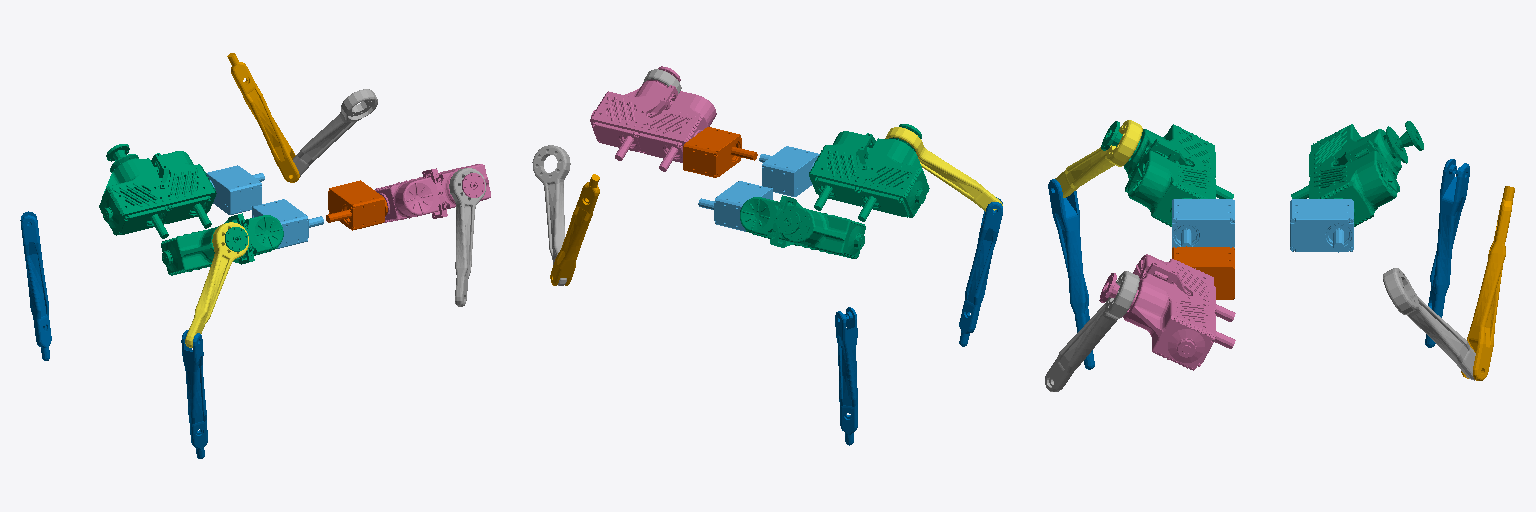
--- Facts derived from the render (not from the file) ---
3 views of the same robot in one strip: view 1: azimuth 30°, elevation 25°; view 2: azimuth 150°, elevation 25°; view 3: azimuth 270°, elevation 25° (orthographic).
Model Quadruped-IsaacSim with 17 links and 16 joints (12 revolute, 4 fixed), rooted at Basic_Body, posed every joint at zero.
Links seen in each view (by area): view 1: FR-Double-Motor1, FL-Double-Motor1, RL-Double-Motor1, FR-leg-link21, RR-leg-link21, RL-Single-Motor1, RL-leg-link11, RR-leg-link11, FL-leg-link11, FL-leg-link21, FR-Single-Motor1, FL-Single-Motor1; view 2: FL-Double-Motor1, RL-Double-Motor1, FR-Double-Motor1, FL-leg-link21, RL-Single-Motor1, FR-leg-link21, RR-leg-link11, FL-Single-Motor1, RR-leg-link21, FL-leg-link11, FR-Single-Motor1; view 3: RL-Double-Motor1, FR-Double-Motor1, FL-Double-Motor1, FR-Single-Motor1, RR-leg-link21, FR-leg-link21, RL-leg-link11, FL-Single-Motor1, FL-leg-link21, RR-leg-link11, FL-leg-link11, RL-Single-Motor1.
Link boxes in pixels (bbox=[...]): FR-Double-Motor1: bbox=[99, 144, 216, 238]; FL-Double-Motor1: bbox=[161, 213, 283, 275]; RL-Double-Motor1: bbox=[375, 164, 490, 222]; FR-leg-link21: bbox=[20, 211, 51, 360]; RR-leg-link21: bbox=[227, 53, 299, 182]; RL-Single-Motor1: bbox=[326, 180, 387, 230]; RL-leg-link11: bbox=[449, 168, 485, 306]; RR-leg-link11: bbox=[293, 89, 377, 176]; FL-leg-link11: bbox=[185, 222, 248, 347]; FL-leg-link21: bbox=[181, 330, 207, 458]; FR-Single-Motor1: bbox=[206, 165, 264, 214]; FL-Single-Motor1: bbox=[252, 199, 323, 248]; FL-Double-Motor1: bbox=[809, 124, 929, 221]; RL-Double-Motor1: bbox=[590, 66, 716, 171]; FR-Double-Motor1: bbox=[740, 195, 865, 258]; FL-leg-link21: bbox=[959, 197, 1002, 346]; RL-Single-Motor1: bbox=[683, 127, 757, 177]; FR-leg-link21: bbox=[835, 307, 857, 445]; RR-leg-link11: bbox=[532, 145, 570, 285]; FL-Single-Motor1: bbox=[759, 146, 819, 196]; RR-leg-link21: bbox=[550, 174, 599, 285]; FL-leg-link11: bbox=[885, 127, 1002, 211]; FR-Single-Motor1: bbox=[698, 181, 772, 231]; RL-Double-Motor1: bbox=[1099, 254, 1235, 370]; FR-Double-Motor1: bbox=[1291, 121, 1423, 226]; FL-Double-Motor1: bbox=[1101, 121, 1233, 226]; FR-Single-Motor1: bbox=[1290, 199, 1353, 252]; RR-leg-link21: bbox=[1461, 186, 1514, 380]; FR-leg-link21: bbox=[1425, 159, 1469, 347]; RL-leg-link11: bbox=[1045, 271, 1139, 391]; FL-Single-Motor1: bbox=[1172, 199, 1234, 247]; FL-leg-link21: bbox=[1048, 179, 1094, 369]; RR-leg-link11: bbox=[1383, 268, 1475, 380]; FL-leg-link11: bbox=[1055, 120, 1142, 197]; RL-Single-Motor1: bbox=[1172, 246, 1234, 299].
Size in the robot's own frame: 0.4897 by 0.4326 by 0.3104 metres.
12 mesh visuals loaded from 17 distinct referenced files (12 binary STL); not drawn: 5 (reference not matched to a file when rendering).

The robot description file, URDF, robot "Quadruped-IsaacSim":
<?xml version='1.0' encoding='utf-8'?>
<robot name="Quadruped-IsaacSim">
    <link name="Basic_Body">
        <inertial>
            <origin xyz="3.2699753365527856e-11 -0.0012499987421279188 -0.004750000038203694" rpy="0.0 0.0 0.0" />
            <mass value="0.5223502772293394" />
            <inertia ixx="0.000774574690005525" iyy="0.011438778897726667" izz="0.01205863802906395" ixy="-1.1564890962261062e-10" iyz="3.863476379095676e-13" ixz="2.9993621752067147e-12" />
        </inertial>
        <visual name="Body1_visual">
            <origin xyz="0.0 0.0 0.0" rpy="0.0 0.0 0.0" />
            <geometry>
                <mesh filename="meshes/Body1.stl" />
            </geometry>
        </visual>
        <collision name="Body1_collision">
            <origin xyz="0.0 0.0 0.0" rpy="0.0 0.0 0.0" />
            <geometry>
                <mesh filename="meshes/Body1.stl" />
            </geometry>
        </collision>
    </link>
    <link name="FL-Single-Motor1">
        <inertial>
            <origin xyz="-0.008058511743548396 0.024291032753734853 0.016750000002170324" rpy="0.0 -0.0 0.0" />
            <mass value="0.18505114928963637" />
            <inertia ixx="6.927157374956791e-05" iyy="5.2779060673292105e-05" izz="8.852045695425213e-05" ixy="1.5973926095205152e-07" iyz="4.3619621803436814e-15" ixz="1.0601762523432257e-14" />
        </inertial>
        <visual name="FL-Single-Motor1_visual">
            <origin xyz="-0.041749999999999954 0.039250000000000014 0.016749999999999973" rpy="-1.5707963267948968 -1.5707963267948966 0" />
            <geometry>
                <mesh filename="meshes/FL-Single-Motor1.stl" />
            </geometry>
        </visual>
        <collision name="FL-Single-Motor1_collision">
            <origin xyz="-0.041749999999999954 0.039250000000000014 0.016749999999999973" rpy="-1.5707963267948968 -1.5707963267948966 0" />
            <geometry>
                <mesh filename="meshes/FL-Single-Motor1.stl" />
            </geometry>
        </collision>
    </link>
    <link name="FL-Double-Motor1">
        <inertial>
            <origin xyz="-0.06716414766997797 0.00542494091347443 0.009451637209221975" rpy="0.0 -0.0 0.0" />
            <mass value="0.4782524941626558" />
            <inertia ixx="0.0003096692588512723" iyy="0.0008123248398218923" izz="0.0007226948848486764" ixy="-1.8409934400207006e-07" iyz="-7.691806622294427e-05" ixz="-7.498838760300702e-07" />
        </inertial>
        <visual name="FL-Double-Motor1_visual">
            <origin xyz="-0.08224999999999996 7.105427357601002e-17 1.7763568394002505e-17" rpy="7.351718556377353e-17 -0.5235987755982987 -1.5707963267948966" />
            <geometry>
                <mesh filename="meshes/FL-Double-Motor1.stl" />
            </geometry>
        </visual>
        <!-- <collision name="FL-Double-Motor1_collision">
            <origin xyz="-0.08224999999999996 7.105427357601002e-17 1.7763568394002505e-17" rpy="7.351718556377353e-17 -0.5235987755982987 -1.5707963267948966" />
            <geometry>
                <mesh filename="meshes/FL-Double-Motor1.stl" />
            </geometry>
        </collision> -->
    </link>
    <link name="FL-leg-link11">
        <inertial>
            <origin xyz="-0.03429140259846331 -0.025620270865074807 -0.032139907337445095" rpy="0.0 -0.0 0.0" />
            <mass value="0.04770813454279477" />
            <inertia ixx="6.36302553655918e-05" iyy="8.89846515557298e-05" izz="6.558294511018001e-05" ixy="-2.8303963607115894e-05" iyz="-2.8671359242327797e-05" ixz="-4.1221187352143054e-05" />
        </inertial>
        <visual name="FL-leg-link11_visual">
            <origin xyz="3.552713678800501e-17 -0.00866024939550707 0.005" rpy="2.4113673972429335 -0.7233643550425849 0.5349780765624936" />
            <geometry>
                <mesh filename="meshes/FL-leg-link11.stl" />
            </geometry>
        </visual>
        <!-- <collision name="FL-leg-link11_collision">
            <origin xyz="3.552713678800501e-17 -0.00866024939550707 0.005" rpy="2.4113673972429335 -0.7233643550425849 0.5349780765624936" />
            <geometry>
                <mesh filename="meshes/FL-leg-link11.stl" />
            </geometry>
        </collision> -->
    </link>
    <!-- <link name="FL-leg-link31">
        <inertial>
            <origin xyz="-0.027784006284850626 0.05516827626297925 -0.033931111316207546" rpy="0.0 -0.0 0.0" />
            <mass value="0.030992351814191726" />
            <inertia ixx="4.1797781016090024e-05" iyy="2.5101887656093925e-05" izz="5.216342305184938e-05" ixy="2.2489027187463555e-05" iyz="1.3811198092937396e-05" ixz="-8.336460485588408e-06" />
        </inertial>
        <visual name="FL-leg-link31_visual">
            <origin xyz="0.0014091637734288832 0.0013351061748942783 0.00048140935420729395" rpy="2.5539983614180954 -1.1216409235946698 2.8696449517481084" />
            <geometry>
                <mesh filename="meshes/FL-leg-link31.stl" />
            </geometry>
        </visual>
        <collision name="FL-leg-link31_collision">
            <origin xyz="0.0014091637734288832 0.0013351061748942783 0.00048140935420729395" rpy="2.5539983614180954 -1.1216409235946698 2.8696449517481084" />
            <geometry>
                <mesh filename="meshes/FL-leg-link31.stl" />
            </geometry>
        </collision>
    </link>
    <link name="FL-leg-link41">
        <inertial>
            <origin xyz="0.004921954583490873 -0.026260730543362136 -0.05031446570950955" rpy="0.0 -0.0 2.993496475303259e-49" />
            <mass value="0.049054688661482895" />
            <inertia ixx="0.00010828569935672841" iyy="9.383889167156358e-05" izz="2.0884071472399707e-05" ixy="3.685945410098312e-06" iyz="-3.853858145171302e-05" ixz="8.370993681913823e-06" />
        </inertial>
        <visual name="FL-leg-link41_visual">
            <origin xyz="1.0658141036401502e-16 0.007967430604493071 -0.004600000000000009" rpy="-1.425522688459402 1.0410402069617724 -1.4028497870582188" />
            <geometry>
                <mesh filename="meshes/FL-leg-link41.stl" />
            </geometry>
        </visual>
        <collision name="FL-leg-link41_collision">
            <origin xyz="1.0658141036401502e-16 0.007967430604493071 -0.004600000000000009" rpy="-1.425522688459402 1.0410402069617724 -1.4028497870582188" />
            <geometry>
                <mesh filename="meshes/FL-leg-link41.stl" />
            </geometry>
        </collision>
    </link> -->
    <link name="FL-leg-link21">
        <inertial>
            <origin xyz="0.010346172100577498 0.06008226076579486 -0.04227209085096202" rpy="0.0 -0.0 0.0" />
            <mass value="0.03786194092058064" />
            <inertia ixx="8.732714459541886e-05" iyy="3.414151467267334e-05" izz="6.0041064589192085e-05" ixy="-1.112391699728233e-05" iyz="4.093020630023653e-05" ixz="8.177127433257536e-06" />
        </inertial>
        <visual name="FL-leg-link21_visual">
            <origin xyz="-0.0010808984164838976 0.0011299930161795403 0.0012469101556211726" rpy="0.8167077041448609 -0.5445881822840094 0.2591490785230335" />
            <geometry>
                <mesh filename="meshes/FL-leg-link21.stl" />
            </geometry>
        </visual>
        <collision name="FL-leg-link21_collision">
            <origin xyz="-0.0010808984164838976 0.0011299930161795403 0.0012469101556211726" rpy="0.8167077041448609 -0.5445881822840094 0.2591490785230335" />
            <geometry>
                <mesh filename="meshes/FL-leg-link21.stl" />
            </geometry>
        </collision>
    </link>



    <link name="RL-Single-Motor1">
        <inertial>
            <origin xyz="0.00805851174354844 0.024291032753734853 0.01674999999782983" rpy="0.0 -0.0 0.0" />
            <mass value="0.18505114928963637" />
            <inertia ixx="6.92715737496026e-05" iyy="5.27790606733268e-05" izz="8.852045695425127e-05" ixy="-1.59739260951401e-07" iyz="-4.361094818605693e-15" ixz="1.0604364608646222e-14" />
        </inertial>
        <visual name="RL-Single-Motor1_visual">
            <origin xyz="0.04174999999999999 0.03925 0.016750000000000043" rpy="-1.5707963267948966 1.5707963267948966 0" />
            <geometry>
                <mesh filename="meshes/RL-Single-Motor1.stl" />
            </geometry>
        </visual>
        <collision name="RL-Single-Motor1_collision">
            <origin xyz="0.04174999999999999 0.03925 0.016750000000000043" rpy="-1.5707963267948966 1.5707963267948966 0" />
            <geometry>
                <mesh filename="meshes/RL-Single-Motor1.stl" />
            </geometry>
        </collision>
    </link>
    <link name="RL-Double-Motor1">
        <inertial>
            <origin xyz="0.06716414766997804 0.0048941336366256395 0.00973708815798121" rpy="0.0 -0.0 0.0" />
            <mass value="0.4782524941626558" />
            <inertia ixx="0.0003096692588512445" iyy="0.0008207034759449682" izz="0.0007143162487255744" ixy="5.241007754348826e-07" iyz="-7.138074383015483e-05" ixz="5.67042126471508e-07" />
        </inertial>
        <visual name="RL-Double-Motor1_visual">
            <origin xyz="0.08224999999999996 0.0 5.062616992290714e-16" rpy="2.01526633129011e-15 0.463207708438608 1.5707963267948977" />
            <geometry>
                <mesh filename="meshes/RL-Double-Motor1.stl" />
            </geometry>
        </visual>
        <!-- <collision name="RL-Double-Motor1_collision">
            <origin xyz="0.08224999999999996 0.0 5.062616992290714e-16" rpy="2.01526633129011e-15 0.463207708438608 1.5707963267948977" />
            <geometry>
                <mesh filename="meshes/RL-Double-Motor1.stl" />
            </geometry>
        </collision> -->
    </link>
    <link name="RL-leg-link11">
        <inertial>
            <origin xyz="-0.018187575134685014 -0.0278010245702095 -0.04197126709316429" rpy="0.0 -0.0 0.0" />
            <mass value="0.04770813454279477" />
            <inertia ixx="9.38577026527148e-05" iyy="8.545018353156748e-05" izz="3.888996584721628e-05" ixy="-1.6505880254080552e-05" iyz="-3.9788557821569114e-05" ixz="-2.8091963059880598e-05" />
        </inertial>
        <visual name="RL-leg-link11_visual">
            <origin xyz="2.486899575160351e-16 -0.008946235112596668 0.004468202786253741" rpy="2.17124332610022 -0.9985218448045559 0.8872287946654374" />
            <geometry>
                <mesh filename="meshes/RL-leg-link11.stl" />
            </geometry>
        </visual>
        <!-- <collision name="RL-leg-link11_collision">
            <origin xyz="2.486899575160351e-16 -0.008946235112596668 0.004468202786253741" rpy="2.17124332610022 -0.9985218448045559 0.8872287946654374" />
            <geometry>
                <mesh filename="meshes/RL-leg-link11.stl" />
            </geometry>
        </collision> -->
    </link>
    <!-- <link name="RL-leg-link31">
        <inertial>
            <origin xyz="-0.009870261189729525 0.05923453093001441 -0.03688710288419682" rpy="0.0 -0.0 0.0" />
            <mass value="0.030992351814191726" />
            <inertia ixx="5.096791650977808e-05" iyy="1.925626945370811e-05" izz="4.883890576054277e-05" ixy="1.482031722228722e-05" iyz="1.9307225662326438e-05" ixz="-6.7673300906637664e-06" />
        </inertial>
        <visual name="RL-leg-link31_visual">
            <origin xyz="0.0012817170732537875 0.0011521926129546502 0.001014721809617587" rpy="2.320489800622202 -0.8048584932280782 2.9617957951061364" />
            <geometry>
                <mesh filename="meshes/RL-leg-link31.stl" />
            </geometry>
        </visual>
        <collision name="RL-leg-link31_collision">
            <origin xyz="0.0012817170732537875 0.0011521926129546502 0.001014721809617587" rpy="2.320489800622202 -0.8048584932280782 2.9617957951061364" />
            <geometry>
                <mesh filename="meshes/RL-leg-link31.stl" />
            </geometry>
        </collision>
    </link>
    <link name="RL-leg-link41">
        <inertial>
            <origin xyz="0.024158096806667615 -0.020866977631660184 -0.04718424430272236" rpy="0.0 -0.0 0.0" />
            <mass value="0.049054688661482895" />
            <inertia ixx="9.023066630052361e-05" iyy="0.00010094445675933907" izz="3.183353944083336e-05" ixy="1.3285355785992931e-05" iyz="-2.7304265271900496e-05" ixz="3.8188092445052245e-05" />
        </inertial>
        <visual name="RL-leg-link41_visual">
            <origin xyz="2.1316282072803005e-16 0.008230534887403315 -0.004110747213746322" rpy="-0.8685317926765391 0.9455253589537899 -0.764059848904591" />
            <geometry>
                <mesh filename="meshes/RL-leg-link41.stl" />
            </geometry>
        </visual>
        <collision name="RL-leg-link41_collision">
            <origin xyz="2.1316282072803005e-16 0.008230534887403315 -0.004110747213746322" rpy="-0.8685317926765391 0.9455253589537899 -0.764059848904591" />
            <geometry>
                <mesh filename="meshes/RL-leg-link41.stl" />
            </geometry>
        </collision>
    </link> -->
    <link name="RL-leg-link21">
        <inertial>
            <origin xyz="0.029139284884755003 0.060302052863784684 -0.03191261917070124" rpy="0.0 -0.0 0.0" />
            <mass value="0.03786194092058064" />
            <inertia ixx="7.448018286321028e-05" iyy="3.3920191756298313e-05" izz="7.310934923777091e-05" ixy="-2.9055049424507536e-05" iyz="3.0784069314594614e-05" ixz="1.584008316575741e-05" />
        </inertial>
        <visual name="RL-leg-link21_visual">
            <origin xyz="-0.0013289292056403214 0.0011882835980298269 0.0009066050031298012" rpy="0.7994953932588053 -0.8863852112506413 0.16833296756001442" />
            <geometry>
                <mesh filename="meshes/RL-leg-link21.stl" />
            </geometry>
        </visual>
        <collision name="RL-leg-link21_collision">
            <origin xyz="-0.0013289292056403214 0.0011882835980298269 0.0009066050031298012" rpy="0.7994953932588053 -0.8863852112506413 0.16833296756001442" />
            <geometry>
                <mesh filename="meshes/RL-leg-link21.stl" />
            </geometry>
        </collision>
    </link>


    <link name="FR-Single-Motor1">
        <inertial>
            <origin xyz="-0.008058511743548396 -0.02429103275373481 0.016749999997829692" rpy="0.0 -0.0 0.0" />
            <mass value="0.18505114928963637" />
            <inertia ixx="6.92715737495922e-05" iyy="5.277906067331986e-05" izz="8.852045695425062e-05" ixy="-1.5973926095205152e-07" iyz="4.361094818605693e-15" ixz="-1.0603497246908233e-14" />
        </inertial>
        <visual name="FR-Single-Motor1_visual">
            <origin xyz="-0.04174999999999992 -0.03924999999999997 0.016749999999999973" rpy="1.5707963267948966 1.5707963267948966 0" />
            <geometry>
                <mesh filename="meshes/FR-Single-Motor1.stl" />
            </geometry>
        </visual>
        <collision name="FR-Single-Motor1_collision">
            <origin xyz="-0.04174999999999992 -0.03924999999999997 0.016749999999999973" rpy="1.5707963267948966 1.5707963267948966 0" />
            <geometry>
                <mesh filename="meshes/FR-Single-Motor1.stl" />
            </geometry>
        </collision>
    </link>
    <link name="FR-Double-Motor1">
        <inertial>
            <origin xyz="-0.06716414766997794 0.005472887473803354 -0.009423955249709124" rpy="0.0 -0.0 0.0" />
            <mass value="0.4782524941626558" />
            <inertia ixx="0.00030966925885123064" iyy="0.0008117153729510305" izz="0.0007233043517194948" ixy="-5.573688145396604e-07" iyz="7.726994208490101e-05" ixz="5.343766467432569e-07" />
        </inertial>
        <visual name="FR-Double-Motor1_visual">
            <origin xyz="-0.08224999999999989 -1.4210854715202004e-16 1.7763568394002506e-16" rpy="-3.141592653589793 -0.5235987755982989 1.570796326794897" />
            <geometry>
                <mesh filename="meshes/FR-Double-Motor1.stl" />
            </geometry>
        </visual>
        <!-- <collision name="FR-Double-Motor1_collision">
            <origin xyz="-0.08224999999999989 -1.4210854715202004e-16 1.7763568394002506e-16" rpy="-3.141592653589793 -0.5235987755982989 1.570796326794897" />
            <geometry>
                <mesh filename="meshes/FR-Double-Motor1.stl" />
            </geometry>
        </collision> -->
    </link>
    <link name="FR-leg-link11">
        <inertial>
            <origin xyz="-0.0392504534288604 0.02323732059089055 -0.02801251639064752" rpy="0.0 -0.0 0.0" />
            <mass value="0.047708134542766116" />
            <inertia ixx="5.058596311753247e-05" iyy="9.271224645527806e-05" izz="7.48996424585562e-05" ixy="2.9004627760761355e-05" iyz="2.2753668503204108e-05" ixz="-4.1415231467140535e-05" />
        </inertial>
        <visual name="FR-leg-link11_visual">
            <origin xyz="-7.105427357601002e-17 0.008660249395506928 0.004999999999999787" rpy="0.6637961054570317 -0.6240105391945766 -0.42869167538801345" />
            <geometry>
                <mesh filename="meshes/FR-leg-link11.stl" />
            </geometry>
        </visual>
        <!-- <collision name="FR-leg-link11_collision">
            <origin xyz="-7.105427357601002e-17 0.008660249395506928 0.004999999999999787" rpy="0.6637961054570317 -0.6240105391945766 -0.42869167538801345" />
            <geometry>
                <mesh filename="meshes/FR-leg-link11.stl" />
            </geometry>
        </collision> -->
    </link>
    <link name="FR-leg-link21">
        <inertial>
            <origin xyz="0.0029824732745502304 0.06030582122666935 0.043106422151264305" rpy="0.0 -0.0 0.0" />
            <mass value="0.03786194092058894" />
            <inertia ixx="8.926159316228945e-05" iyy="3.363042089469369e-05" izz="5.861770980042343e-05" ixy="-4.095614841022887e-06" iyz="-4.20746136570426e-05" ixz="-3.131503509630333e-06" />
        </inertial>
        <visual name="FR-leg-link21_visual">
            <origin xyz="-0.0009541540325433574 0.0010958606223879742 -0.0013743016819035957" rpy="-0.8539855599227406 0.42399626641840427 0.2753025393609303" />
            <geometry>
                <mesh filename="meshes/FR-leg-link21.stl" />
            </geometry>
        </visual>
        <collision name="FR-leg-link21_collision">
            <origin xyz="-0.0009541540325433574 0.0010958606223879742 -0.0013743016819035957" rpy="-0.8539855599227406 0.42399626641840427 0.2753025393609303" />
            <geometry>
                <mesh filename="meshes/FR-leg-link21.stl" />
            </geometry>
        </collision>
    </link>
    <!-- <link name="FR-leg-link31">
        <inertial>
            <origin xyz="-0.03362474629608322 0.05413827562982711 0.03008709543269612" rpy="0.0 -0.0 0.0" />
            <mass value="0.030992351814247344" />
            <inertia ixx="3.8274043513176155e-05" iyy="2.6678868376040266e-05" izz="5.411017983539754e-05" ixy="2.4491368988972677e-05" iyz="-1.0607696054176567e-05" ixz="7.103149258507075e-06" />
        </inertial>
        <visual name="FR-leg-link31_visual">
            <origin xyz="0.001412790401899251 0.0013824369479977605 -0.0003047696924419974" rpy="-2.6513921813390615 1.2411943749583882 2.812912790352554" />
            <geometry>
                <mesh filename="meshes/FR-leg-link31.stl" />
            </geometry>
        </visual>
        <collision name="FR-leg-link31_collision">
            <origin xyz="0.001412790401899251 0.0013824369479977605 -0.0003047696924419974" rpy="-2.6513921813390615 1.2411943749583882 2.812912790352554" />
            <geometry>
                <mesh filename="meshes/FR-leg-link31.stl" />
            </geometry>
        </collision>
    </link>
    <link name="FR-leg-link41">
        <inertial>
            <origin xyz="-0.0024380763075627955 0.026341203667214295 -0.05045383314626655" rpy="0.0 -0.0 0.0" />
            <mass value="0.04905477511303801" />
            <inertia ixx="0.00010890521879905989" iyy="9.370575242678009e-05" izz="2.0397585143995447e-05" ixy="1.6429673672332403e-06" iyz="3.8794256055914734e-05" ixz="-4.056017968107577e-06" />
        </inertial>
        <visual name="FR-leg-link41_visual">
            <origin xyz="-6.392042450897862e-13 -0.007967430607364606 -0.004600000001657989" rpy="-1.4932782866955108 1.0454576602664718 1.6603364301662176" />
            <geometry>
                <mesh filename="meshes/FR-leg-link41.stl" />
            </geometry>
        </visual>
        <collision name="FR-leg-link41_collision">
            <origin xyz="-6.392042450897862e-13 -0.007967430607364606 -0.004600000001657989" rpy="-1.4932782866955108 1.0454576602664718 1.6603364301662176" />
            <geometry>
                <mesh filename="meshes/FR-leg-link41.stl" />
            </geometry>
        </collision>
    </link> -->
    <link name="RR-Single-Motor1">
        <inertial>
            <origin xyz="0.008058511743548361 -0.024291032753734863 0.016750000002170466" rpy="0.0 -0.0 0.0" />
            <mass value="0.18505114928963637" />
            <inertia ixx="6.927157374958179e-05" iyy="5.277906067330945e-05" izz="8.852045695425148e-05" ixy="1.5973926095183468e-07" iyz="-4.360227456867705e-15" ixz="-1.060219620430125e-14" />
        </inertial>
        <visual name="RR-Single-Motor1_visual">
            <origin xyz="0.041749999999999884 -0.039250000000000014 0.016750000000000115" rpy="1.5707963267948968 -1.5707963267948966 0" />
            <geometry>
                <mesh filename="meshes/RR-Single-Motor1.stl" />
            </geometry>
        </visual>
        <collision name="RR-Single-Motor1_collision">
            <origin xyz="0.041749999999999884 -0.039250000000000014 0.016750000000000115" rpy="1.5707963267948968 -1.5707963267948966 0" />
            <geometry>
                <mesh filename="meshes/RR-Single-Motor1.stl" />
            </geometry>
        </collision>
    </link>
    <link name="RR-Double-Motor1">
        <inertial>
            <origin xyz="0.06716414766997786 0.0054249409134740035 -0.009451637209221868" rpy="0.0 -0.0 0.0" />
            <mass value="0.4782524941626558" />
            <inertia ixx="0.0003096692588513138" iyy="0.0008123248398218992" izz="0.0007226948848487317" ixy="1.8409934400900882e-07" iyz="7.691806622295466e-05" ixz="-7.498838760292002e-07" />
        </inertial>
        <visual name="RR-Double-Motor1_visual">
            <origin xyz="0.08224999999999977 -2.842170943040401e-16 5.329070518200751e-17" rpy="-3.141592653589793 0.5235987755982987 -1.570796326794897" />
            <geometry>
                <mesh filename="meshes/RR-Double-Motor1.stl" />
            </geometry>
        </visual>
        <!-- <collision name="RR-Double-Motor1_collision">
            <origin xyz="0.08224999999999977 -2.842170943040401e-16 5.329070518200751e-17" rpy="-3.141592653589793 0.5235987755982987 -1.570796326794897" />
            <geometry>
                <mesh filename="meshes/RR-Double-Motor1.stl" />
            </geometry>
        </collision> -->
    </link>
    <link name="RR-leg-link11">
        <inertial>
            <origin xyz="-0.02049529540828065 0.0298328178022809 -0.039436252661954045" rpy="0.0 -0.0 0.0" />
            <mass value="0.047708134542766116" />
            <inertia ixx="9.066477928141445e-05" iyy="8.137903758726438e-05" izz="4.615403516268841e-05" ixy="2.0114478992803006e-05" iyz="4.086665734444459e-05" ixz="-2.992238667434614e-05" />
        </inertial>
        <visual name="RR-leg-link11_visual">
            <origin xyz="-3.1974423109204507e-16 0.008660249395507247 0.0049999999999996445" rpy="0.9821746740840134 -0.9258276201676335 -0.8748561591377285" />
            <geometry>
                <mesh filename="meshes/RR-leg-link11.stl" />
            </geometry>
        </visual>
        <!-- <collision name="RR-leg-link11_collision">
            <origin xyz="-3.1974423109204507e-16 0.008660249395507247 0.0049999999999996445" rpy="0.9821746740840134 -0.9258276201676335 -0.8748561591377285" />
            <geometry>
                <mesh filename="meshes/RR-leg-link11.stl" />
            </geometry>
        </collision> -->
    </link>
    <link name="RR-leg-link21">
        <inertial>
            <origin xyz="0.026808419669417542 0.058603462989383924 0.03675315182862125" rpy="0.0 -0.0 0.0" />
            <mass value="0.03786194092058894" />
            <inertia ixx="7.66827704643605e-05" iyy="3.711925391000625e-05" izz="6.770769948303808e-05" ixy="-2.6071937231539568e-05" iyz="-3.4346534923379984e-05" ixz="-1.6838950294716128e-05" />
        </inertial>
        <visual name="RR-leg-link21_visual">
            <origin xyz="-0.0013049509610227794 0.0012249511105342492 -0.0008925123095268539" rpy="-0.7228732455792783 0.8304127646811991 0.2397761024208059" />
            <geometry>
                <mesh filename="meshes/RR-leg-link21.stl" />
            </geometry>
        </visual>
        <collision name="RR-leg-link21_collision">
            <origin xyz="-0.0013049509610227794 0.0012249511105342492 -0.0008925123095268539" rpy="-0.7228732455792783 0.8304127646811991 0.2397761024208059" />
            <geometry>
                <mesh filename="meshes/RR-leg-link21.stl" />
            </geometry>
        </collision>
    </link>
    <!-- <link name="RR-leg-link31">
        <inertial>
            <origin xyz="-0.012362829956947189 0.05676616941385852 0.039894526685076016" rpy="0.0 -0.0 0.0" />
            <mass value="0.030992351814247344" />
            <inertia ixx="4.989771804890866e-05" iyy="2.2052695287080153e-05" izz="4.7112678388621745e-05" ixy="1.565508882488436e-05" iyz="-2.0177739991756243e-05" ixz="8.0632527831976e-06" />
        </inertial>
        <visual name="RR-leg-link31_visual">
            <origin xyz="0.0013081595516952049 0.0012269555689081813 -0.0008850359659596663" rpy="-2.420738693439757 0.8359679143132223 2.9018544437780833" />
            <geometry>
                <mesh filename="meshes/RR-leg-link31.stl" />
            </geometry>
        </visual>
        <collision name="RR-leg-link31_collision">
            <origin xyz="0.0013081595516952049 0.0012269555689081813 -0.0008850359659596663" rpy="-2.420738693439757 0.8359679143132223 2.9018544437780833" />
            <geometry>
                <mesh filename="meshes/RR-leg-link31.stl" />
            </geometry>
        </collision>
    </link>
    <link name="RR-leg-link41">
        <inertial>
            <origin xyz="0.021731340036846056 0.024211367327730996 -0.04676484839008317" rpy="0.0 -0.0 0.0" />
            <mass value="0.04905477511303801" />
            <inertia ixx="9.381797384840947e-05" iyy="9.670427321229608e-05" izz="3.2486309309129945e-05" ixy="-1.4391355852821272e-05" iyz="3.2707746805857054e-05" ixz="3.4225439634142606e-05" />
        </inertial>
        <visual name="RR-leg-link41_visual">
            <origin xyz="-4.405364961712621e-15 -0.007967430604493 -0.004600000000000293" rpy="-2.1528358059330697 0.9290985520356033 0.883082812773521" />
            <geometry>
                <mesh filename="meshes/RR-leg-link41.stl" />
            </geometry>
        </visual>
        <collision name="RR-leg-link41_collision">
            <origin xyz="-4.405364961712621e-15 -0.007967430604493 -0.004600000000000293" rpy="-2.1528358059330697 0.9290985520356033 0.883082812773521" />
            <geometry>
                <mesh filename="meshes/RR-leg-link41.stl" />
            </geometry>
        </collision>
    </link> -->



<joint name="Basic_Body_FL-Rigid" type="fixed">
        <origin xyz="-0.044000000000000004 -0.032 0.012000000000000028" rpy="3.141592653589793 -0.0 0.0" />
        <parent link="Basic_Body" />
        <child link="FL-Single-Motor1" />
    </joint>
    <joint name="FL-Single-Motor1_FL-Revolute_joint" type="revolute">
        <origin xyz="-0.034499999999999996 0.03925 0.016750000000000043" rpy="-1.5707963267948966 -0.0 0.0" />
        <parent link="FL-Single-Motor1" />
        <child link="FL-Double-Motor1" />
        <axis xyz="-1.0 0.0 7.806255641895643e-18" />
        <limit effort="5" lower="-1.570795" upper="1.570795" velocity="3.25"/>
        <dynamics damping="0" friction="0"/>

    </joint>
    <joint name="FL-Double-Motor1_FL-Motor-Link1_joint" type="revolute">
        <origin xyz="-0.08225 0.031400000000000004 0.054386399999999994" rpy="-1.5707963267948968 1.0785207688568522e-32 5.551115123125783e-17" />
        <parent link="FL-Double-Motor1" />
        <child link="FL-leg-link11" />
        <axis xyz="2.775557561562891e-17 -0.8660250000000002 0.4999999999999999" />
        <limit effort="5" lower="-1.570795" upper="1.570795" velocity="3.25"/>
        <dynamics damping="0" friction="0"/>
    </joint>
    <joint name="FL-leg-link11_FL-Link1-Link2_joint" type="revolute">
        <origin xyz="-0.08532916 -0.06154961999999999 -0.08377865" rpy="-0.7853981633974452 -0.0 -3.851859888774472e-33" />
        <parent link="FL-leg-link11" />
        <child link="FL-leg-link21" />
        <axis xyz="0.540447 -0.5649967029443643 -0.6234546347586148" />
        <limit effort="5" lower="-1.2" upper="0.4" velocity="3.25"/>
        <dynamics damping="0" friction="0"/>
    </joint>
    <!-- <joint name="FL-Double-Motor1_FL-Motor-Link4" type="revolute">
        <origin xyz="-0.08225 0.041000000000000016 0.07101408" rpy="-1.5707963267948968 1.0785207688568522e-32 5.551115123125783e-17" />
        <parent link="FL-Double-Motor1" />
        <child link="FL-leg-link41" />
        <axis xyz="2.775557561562891e-17 -0.866025 0.5" />
    </joint>
    <joint name="FL-leg-link41_FL-Link4-Link3" type="revolute">
        <origin xyz="0.009909659999999968 -0.06007759 -0.11962901" rpy="-0.7853981633974534 5.551115123125783e-17 -3.851859888774471e-33" />
        <parent link="FL-leg-link41" />
        <child link="FL-leg-link31" />
        <axis xyz="0.7045800000000001 0.6675540562740957 0.2407062193837161" />
    </joint>
    <joint name="FL-leg-link21_FL-Link2-Link3" type="revolute">
        <origin xyz="0.019425109999999995 0.10661083588181829 -0.07883614820728686" rpy="-2.1862760354652835 -0.523598775598294 2.5261129449194097" />
        <parent link="FL-leg-link21" />
        <child link="FL-leg-link31" />
        <axis xyz="-0.5376733898125287 0.17866800000000002 0.8240049671455295" />
    </joint> -->
    <joint name="Basic_Body_RL-Rigid" type="fixed">
        <origin xyz="0.044000000000000004 -0.032 0.012000000000000028" rpy="3.141592653589793 -0.0 0.0" />
        <parent link="Basic_Body" />
        <child link="RL-Single-Motor1" />
    </joint>
    <joint name="RL-Single-Motor1_RL-Revolute_joint" type="revolute">
        <origin xyz="0.034499999999999996 0.03925 0.016750000000000043" rpy="-1.5707963267948966 6.077163357286271e-64 0.0" />
        <parent link="RL-Single-Motor1" />
        <child link="RL-Double-Motor1" />
        <axis xyz="1.0 4.930380657631324e-32 -7.806255641895643e-18" />
        <limit effort="5" lower="-1.570795" upper="1.570795" velocity="3.25"/>
        <dynamics damping="0" friction="0"/>
    </joint>
    <joint name="RL-Double-Motor1_RL-Motor-Link1_joint" type="revolute">
        <origin xyz="0.08225 0.0280603 0.05618238" rpy="-1.5707963267948968 1.4791141972893971e-31 -1.8474149676157256e-47" />
        <parent link="RL-Double-Motor1" />
        <child link="RL-leg-link11" />
        <axis xyz="-1.3232510596358296e-31 -0.894624 0.4468199999999999" />
        <limit effort="5" lower="-1.570795" upper="1.570795" velocity="3.25"/>
        <dynamics damping="0" friction="0"/>
    </joint>
    <joint name="RL-leg-link11_RL-Link1-Link2_joint" type="revolute">
        <origin xyz="-0.04450177 -0.06669059999999999 -0.10798259000000002" rpy="-0.7853981633974452 5.551115123125783e-17 -1.4111326436170527e-31" />
        <parent link="RL-leg-link11" />
        <child link="RL-leg-link21" />
        <axis xyz="0.664463 -0.594142937358092 -0.4533028228949145" />
        <limit effort="5" lower="-1.2" upper="0.4" velocity="3.25"/>
        <dynamics damping="0" friction="0"/>
    </joint>
    <!-- <joint name="RL-Double-Motor1_RL-Motor-Link4" type="revolute">
        <origin xyz="0.08225 0.03663924999999999 0.07335915" rpy="-1.5707963267948968 1.4791141972893971e-31 -1.8474149676157256e-47" />
        <parent link="RL-Double-Motor1" />
        <child link="RL-leg-link41" />
        <axis xyz="-1.3232510596358296e-31 -0.894624 0.44682" />
    </joint>
    <joint name="RL-leg-link41_RL-Link4-Link3" type="revolute">
        <origin xyz="0.055349129999999996 -0.047565880000000005 -0.11266135" rpy="-0.7853981633974534 -5.551115123125783e-17 -1.4791141972893971e-31" />
        <parent link="RL-leg-link41" />
        <child link="RL-leg-link31" />
        <axis xyz="0.640856 0.5760968651954262 0.5073618434234122" />
    </joint>
    <joint name="RL-leg-link21_RL-Link2-Link3" type="revolute">
        <origin xyz="0.053980549999999995 0.10704380443500675 -0.05988378435424599" rpy="0.9553166181245095 -0.523598775598294 2.5261129449194093" />
        <parent link="RL-leg-link21" />
        <child link="RL-leg-link31" />
        <axis xyz="0.7022977479676944 0.2640149999999999 0.6611158490313971" />
    </joint> -->
    <joint name="Basic_Body_FR-Rigid" type="fixed">
        <origin xyz="-0.044000000000000004 0.029500000000000002 0.012000000000000028" rpy="3.141592653589793 -0.0 0.0" />
        <parent link="Basic_Body" />
        <child link="FR-Single-Motor1" />
    </joint>
    <joint name="FR-Single-Motor1_FR-Revolute_joint" type="revolute">
        <origin xyz="-0.034499999999999996 -0.03925 0.016750000000000043" rpy="-1.5707963267948966 -0.0 0.0" />
        <parent link="FR-Single-Motor1" />
        <child link="FR-Double-Motor1" />
        <axis xyz="-1.0 -2.465190328815662e-32 7.806255641895643e-18" />
        <limit effort="5" lower="-1.570795" upper="1.570795" velocity="3.25"/>
        <dynamics damping="0" friction="0"/>
    </joint>
    <joint name="FR-Double-Motor1_FR-Motor-Link1_joint" type="revolute">
        <origin xyz="-0.08225 0.031400000000000004 -0.054386399999999994" rpy="-1.5707963267948968 -6.93334779979405e-33 -5.551115123125783e-17" />
        <parent link="FR-Double-Motor1" />
        <child link="FR-leg-link11" />
        <axis xyz="-2.7755575615628914e-17 0.8660249999999999 0.5000000000000001" />
        <limit effort="5" lower="-1.570795" upper="1.570795" velocity="3.25"/>
        <dynamics damping="0" friction="0"/>
    </joint>
    <joint name="FR-leg-link11_FR-Link1-Link2_joint" type="revolute">
        <origin xyz="-0.09795199 0.05561083000000002 -0.07349235999999998" rpy="-2.356194490192348 -1.1102230246251565e-16 -5.551115123125785e-17" />
        <parent link="FR-leg-link11" />
        <child link="FR-leg-link21" />
        <axis xyz="0.47707499999999997 -0.5479299736736459 0.6871479851807744" />
        <limit effort="5" lower="-1.2" upper="0.4" velocity="3.25"/>
        <dynamics damping="0" friction="0"/>
    </joint>
    <!-- <joint name="FR-Double-Motor1_FR-Motor-Link4" type="revolute">
        <origin xyz="-0.08225 0.041000000000000016 -0.07101408" rpy="-1.5707963267948968 -6.93334779979405e-33 -5.551115123125783e-17" />
        <parent link="FR-Double-Motor1" />
        <child link="FR-leg-link41" />
        <axis xyz="-2.7755575615628914e-17 0.866025 0.5" />
    </joint>
    <joint name="FR-leg-link41_FR-Link4-Link3" type="revolute">
        <origin xyz="-0.007422009999999979 0.060158200000000016 -0.11976863000000001" rpy="-2.35619449019234 -5.551115123125783e-17 1.1102230246251568e-16" />
        <parent link="FR-leg-link41" />
        <child link="FR-leg-link31" />
        <axis xyz="0.7063949999999998 0.6912195060268473 -0.15238292555926752" />
    </joint>
    <joint name="FR-leg-link21_FR-Link2-Link3" type="revolute">
        <origin xyz="0.0058727100000000474 0.10703515651907282 0.08041971384375421" rpy="2.1862760354652835 -0.5235987755982939 -2.5261129449194093" />
        <parent link="FR-leg-link21" />
        <child link="FR-leg-link31" />
        <axis xyz="0.8697469977137005 0.15142800000000003 -0.4696914367624818" />
    </joint> -->
    <joint name="Basic_Body_RR-Rigid" type="fixed">
        <origin xyz="0.044000000000000004 0.029500000000000002 0.012000000000000028" rpy="3.141592653589793 -0.0 0.0" />
        <parent link="Basic_Body" />
        <child link="RR-Single-Motor1" />
    </joint>
    <joint name="RR-Single-Motor1_RR-Revolute_joint" type="revolute">
        <origin xyz="0.034499999999999996 -0.03925 0.016750000000000043" rpy="-1.5707963267948966 -0.0 0.0" />
        <parent link="RR-Single-Motor1" />
        <child link="RR-Double-Motor1" />
        <axis xyz="0.9999999999999999 -3.851859888774472e-34 0.0" />
        <limit effort="5" lower="-1.570795" upper="1.570795" velocity="3.25"/>
        <dynamics damping="0" friction="0"/>

    </joint>
    <joint name="RR-Double-Motor1_RR-Motor-Link1_joint" type="revolute">
        <origin xyz="0.08224999999999998 0.031400000000000004 -0.05438639999999999" rpy="-1.5707963267948968 -4.9303806576313227e-32 6.07716335728627e-64" />
        <parent link="RR-Double-Motor1" />
        <child link="RR-leg-link11" />
        <axis xyz="-4.2698329090251674e-32 0.8660249999999999 0.5000000000000002" />
        <limit effort="5" lower="-1.570795" upper="1.570795" velocity="3.25"/>
        <dynamics damping="0" friction="0"/>
    </joint>
    <joint name="RR-leg-link11_RR-Link1-Link2_joint" type="revolute">
        <origin xyz="-0.05034087999999999 0.07198128000000002 -0.10184681999999995" rpy="-2.356194490192348 -5.551115123125783e-17 4.250565120907878e-32" />
        <parent link="RR-leg-link11" />
        <child link="RR-leg-link21" />
        <axis xyz="0.652478 -0.6124768019806968 0.44625721092717185" />
        <limit effort="5" lower="-1.2" upper="0.4" velocity="3.25"/>
        <dynamics damping="0" friction="0"/>
    </joint>
    <!-- <joint name="RR-Double-Motor1_Revolute_45" type="revolute">
        <origin xyz="0.08224999999999998 0.041000000000000016 -0.07101407999999998" rpy="-1.5707963267948966 -4.9303806576313227e-32 6.07716335728627e-64" />
        <parent link="RR-Double-Motor1" />
        <child link="RR-leg-link41" />
        <axis xyz="-4.2698329090251674e-32 0.866025 0.5000000000000001" />
    </joint>
    <joint name="RR-leg-link41_Revolute_46" type="revolute">
        <origin xyz="0.04960471999999999 0.05550153000000002 -0.11170303999999995" rpy="-2.35619449019234 5.551115123125783e-17 4.930380657631324e-32" />
        <parent link="RR-leg-link41" />
        <child link="RR-leg-link31" />
        <axis xyz="0.65408 0.6134773580760723 -0.4425215658021684" />
    </joint>
    <joint name="RR-leg-link21_Revolute_47" type="revolute">
        <origin xyz="0.049697599999999974 0.10385966724398457 0.0685686607596101" rpy="2.1862760354652835 -0.5235987755982938 -2.5261129449194093" />
        <parent link="RR-leg-link21" />
        <child link="RR-leg-link31" />
        <axis xyz="0.693352140078903 0.20589499999999997 -0.6905576540796612" />
    </joint> -->







    <!-- <joint name="Body1_FL-Rigid" type="fixed">
        <origin xyz="-0.044000000000000004 -0.032 0.012000000000000028" rpy="3.141592653589793 -0.0 0.0" />
        <parent link="Body1" />
        <child link="FL-Single-Motor1" />
    </joint>
    <joint name="FL-Single-Motor1_FL-Revolute" type="continuous">
        <origin xyz="-0.034499999999999996 0.03925 0.016750000000000043" rpy="-1.5707963267948966 -0.0 0.0" />
        <parent link="FL-Single-Motor1" />
        <child link="FL-Double-Motor1" />
        <axis xyz="-1.0 0.0 7.806255641895643e-18" />
    </joint>
    <joint name="FL-Double-Motor1_FL-Motor-Link1" type="continuous">
        <origin xyz="-0.08225 0.031400000000000004 0.054386399999999994" rpy="-1.5707963267948968 1.0785207688568522e-32 5.551115123125783e-17" />
        <parent link="FL-Double-Motor1" />
        <child link="FL-leg-link11" />
        <axis xyz="2.775557561562891e-17 -0.8660250000000002 0.4999999999999999" />
    </joint>
    <joint name="FL-leg-link11_FL-Link1-Link2" type="continuous">
        <origin xyz="-0.08532916 -0.06154961999999999 -0.08377865" rpy="-0.7853981633974452 -0.0 -3.851859888774472e-33" />
        <parent link="FL-leg-link11" />
        <child link="FL-leg-link21" />
        <axis xyz="0.540447 -0.5649967029443643 -0.6234546347586148" />
    </joint>
    <joint name="FL-Double-Motor1_FL-Motor-Link4" type="continuous">
        <origin xyz="-0.08225 0.041000000000000016 0.07101408" rpy="-1.5707963267948968 1.0785207688568522e-32 5.551115123125783e-17" />
        <parent link="FL-Double-Motor1" />
        <child link="FL-leg-link41" />
        <axis xyz="2.775557561562891e-17 -0.866025 0.5" />
    </joint>
    <joint name="FL-leg-link41_FL-Link4-Link3" type="continuous">
        <origin xyz="0.009909659999999968 -0.06007759 -0.11962901" rpy="-0.7853981633974534 5.551115123125783e-17 -3.851859888774471e-33" />
        <parent link="FL-leg-link41" />
        <child link="FL-leg-link31" />
        <axis xyz="0.7045800000000001 0.6675540562740957 0.2407062193837161" />
    </joint>
    <joint name="FL-leg-link21_FL-Link2-Link3" type="continuous">
        <origin xyz="0.019425109999999995 0.10661083588181829 -0.07883614820728686" rpy="-2.1862760354652835 -0.523598775598294 2.5261129449194097" />
        <parent link="FL-leg-link21" />
        <child link="FL-leg-link31" />
        <axis xyz="-0.5376733898125287 0.17866800000000002 0.8240049671455295" />
    </joint>
    <joint name="Body1_RL-Rigid" type="fixed">
        <origin xyz="0.044000000000000004 -0.032 0.012000000000000028" rpy="3.141592653589793 -0.0 0.0" />
        <parent link="Body1" />
        <child link="RL-Single-Motor1" />
    </joint>
    <joint name="RL-Single-Motor1_RL-Revolute" type="continuous">
        <origin xyz="0.034499999999999996 0.03925 0.016750000000000043" rpy="-1.5707963267948966 6.077163357286271e-64 0.0" />
        <parent link="RL-Single-Motor1" />
        <child link="RL-Double-Motor1" />
        <axis xyz="1.0 4.930380657631324e-32 -7.806255641895643e-18" />
    </joint>
    <joint name="RL-Double-Motor1_RL-Motor-Link1" type="continuous">
        <origin xyz="0.08225 0.0280603 0.05618238" rpy="-1.5707963267948968 1.4791141972893971e-31 -1.8474149676157256e-47" />
        <parent link="RL-Double-Motor1" />
        <child link="RL-leg-link11" />
        <axis xyz="-1.3232510596358296e-31 -0.894624 0.4468199999999999" />
    </joint>
    <joint name="RL-leg-link11_RL-Link1-Link2" type="continuous">
        <origin xyz="-0.04450177 -0.06669059999999999 -0.10798259000000002" rpy="-0.7853981633974452 5.551115123125783e-17 -1.4111326436170527e-31" />
        <parent link="RL-leg-link11" />
        <child link="RL-leg-link21" />
        <axis xyz="0.664463 -0.594142937358092 -0.4533028228949145" />
    </joint>
    <joint name="RL-Double-Motor1_RL-Motor-Link4" type="continuous">
        <origin xyz="0.08225 0.03663924999999999 0.07335915" rpy="-1.5707963267948968 1.4791141972893971e-31 -1.8474149676157256e-47" />
        <parent link="RL-Double-Motor1" />
        <child link="RL-leg-link41" />
        <axis xyz="-1.3232510596358296e-31 -0.894624 0.44682" />
    </joint>
    <joint name="RL-leg-link41_RL-Link4-Link3" type="continuous">
        <origin xyz="0.055349129999999996 -0.047565880000000005 -0.11266135" rpy="-0.7853981633974534 -5.551115123125783e-17 -1.4791141972893971e-31" />
        <parent link="RL-leg-link41" />
        <child link="RL-leg-link31" />
        <axis xyz="0.640856 0.5760968651954262 0.5073618434234122" />
    </joint>
    <joint name="RL-leg-link21_RL-Link2-Link3" type="continuous">
        <origin xyz="0.053980549999999995 0.10704380443500675 -0.05988378435424599" rpy="0.9553166181245095 -0.523598775598294 2.5261129449194093" />
        <parent link="RL-leg-link21" />
        <child link="RL-leg-link31" />
        <axis xyz="0.7022977479676944 0.2640149999999999 0.6611158490313971" />
    </joint>
    <joint name="Body1_FR-Rigid" type="fixed">
        <origin xyz="-0.044000000000000004 0.029500000000000002 0.012000000000000028" rpy="3.141592653589793 -0.0 0.0" />
        <parent link="Body1" />
        <child link="FR-Single-Motor1" />
    </joint>
    <joint name="FR-Single-Motor1_FR-Revolute" type="continuous">
        <origin xyz="-0.034499999999999996 -0.03925 0.016750000000000043" rpy="-1.5707963267948966 -0.0 0.0" />
        <parent link="FR-Single-Motor1" />
        <child link="FR-Double-Motor1" />
        <axis xyz="-1.0 -2.465190328815662e-32 7.806255641895643e-18" />
    </joint>
    <joint name="FR-Double-Motor1_FR-Motor-Link1" type="continuous">
        <origin xyz="-0.08225 0.031400000000000004 -0.054386399999999994" rpy="-1.5707963267948968 -6.93334779979405e-33 -5.551115123125783e-17" />
        <parent link="FR-Double-Motor1" />
        <child link="FR-leg-link11" />
        <axis xyz="-2.7755575615628914e-17 0.8660249999999999 0.5000000000000001" />
    </joint>
    <joint name="FR-leg-link11_FR-Link1-Link2" type="continuous">
        <origin xyz="-0.09795199 0.05561083000000002 -0.07349235999999998" rpy="-2.356194490192348 -1.1102230246251565e-16 -5.551115123125785e-17" />
        <parent link="FR-leg-link11" />
        <child link="FR-leg-link21" />
        <axis xyz="0.47707499999999997 -0.5479299736736459 0.6871479851807744" />
    </joint>
    <joint name="FR-Double-Motor1_FR-Motor-Link4" type="continuous">
        <origin xyz="-0.08225 0.041000000000000016 -0.07101408" rpy="-1.5707963267948968 -6.93334779979405e-33 -5.551115123125783e-17" />
        <parent link="FR-Double-Motor1" />
        <child link="FR-leg-link41" />
        <axis xyz="-2.7755575615628914e-17 0.866025 0.5" />
    </joint>
    <joint name="FR-leg-link41_FR-Link4-Link3" type="continuous">
        <origin xyz="-0.007422009999999979 0.060158200000000016 -0.11976863000000001" rpy="-2.35619449019234 -5.551115123125783e-17 1.1102230246251568e-16" />
        <parent link="FR-leg-link41" />
        <child link="FR-leg-link31" />
        <axis xyz="0.7063949999999998 0.6912195060268473 -0.15238292555926752" />
    </joint>
    <joint name="FR-leg-link21_FR-Link2-Link3" type="continuous">
        <origin xyz="0.0058727100000000474 0.10703515651907282 0.08041971384375421" rpy="2.1862760354652835 -0.5235987755982939 -2.5261129449194093" />
        <parent link="FR-leg-link21" />
        <child link="FR-leg-link31" />
        <axis xyz="0.8697469977137005 0.15142800000000003 -0.4696914367624818" />
    </joint>
    <joint name="Body1_RR-Rigid" type="fixed">
        <origin xyz="0.044000000000000004 0.029500000000000002 0.012000000000000028" rpy="3.141592653589793 -0.0 0.0" />
        <parent link="Body1" />
        <child link="RR-Single-Motor1" />
    </joint>
    <joint name="RR-Single-Motor1_RR-Revolute" type="continuous">
        <origin xyz="0.034499999999999996 -0.03925 0.016750000000000043" rpy="-1.5707963267948966 -0.0 0.0" />
        <parent link="RR-Single-Motor1" />
        <child link="RR-Double-Motor1" />
        <axis xyz="0.9999999999999999 -3.851859888774472e-34 0.0" />
    </joint>
    <joint name="RR-Double-Motor1_RR-Motor-Link1" type="continuous">
        <origin xyz="0.08224999999999998 0.031400000000000004 -0.05438639999999999" rpy="-1.5707963267948968 -4.9303806576313227e-32 6.07716335728627e-64" />
        <parent link="RR-Double-Motor1" />
        <child link="RR-leg-link11" />
        <axis xyz="-4.2698329090251674e-32 0.8660249999999999 0.5000000000000002" />
    </joint>
    <joint name="RR-leg-link11_RR-Link1-Link2" type="continuous">
        <origin xyz="-0.05034087999999999 0.07198128000000002 -0.10184681999999995" rpy="-2.356194490192348 -5.551115123125783e-17 4.250565120907878e-32" />
        <parent link="RR-leg-link11" />
        <child link="RR-leg-link21" />
        <axis xyz="0.652478 -0.6124768019806968 0.44625721092717185" />
    </joint>
    <joint name="RR-Double-Motor1_Revolute_45" type="continuous">
        <origin xyz="0.08224999999999998 0.041000000000000016 -0.07101407999999998" rpy="-1.5707963267948966 -4.9303806576313227e-32 6.07716335728627e-64" />
        <parent link="RR-Double-Motor1" />
        <child link="RR-leg-link41" />
        <axis xyz="-4.2698329090251674e-32 0.866025 0.5000000000000001" />
    </joint>
    <joint name="RR-leg-link41_Revolute_46" type="continuous">
        <origin xyz="0.04960471999999999 0.05550153000000002 -0.11170303999999995" rpy="-2.35619449019234 5.551115123125783e-17 4.930380657631324e-32" />
        <parent link="RR-leg-link41" />
        <child link="RR-leg-link31" />
        <axis xyz="0.65408 0.6134773580760723 -0.4425215658021684" />
    </joint>
    <joint name="RR-leg-link21_Revolute_47" type="continuous">
        <origin xyz="0.049697599999999974 0.10385966724398457 0.0685686607596101" rpy="2.1862760354652835 -0.5235987755982938 -2.5261129449194093" />
        <parent link="RR-leg-link21" />
        <child link="RR-leg-link31" />
        <axis xyz="0.693352140078903 0.20589499999999997 -0.6905576540796612" />
    </joint> -->
</robot>
